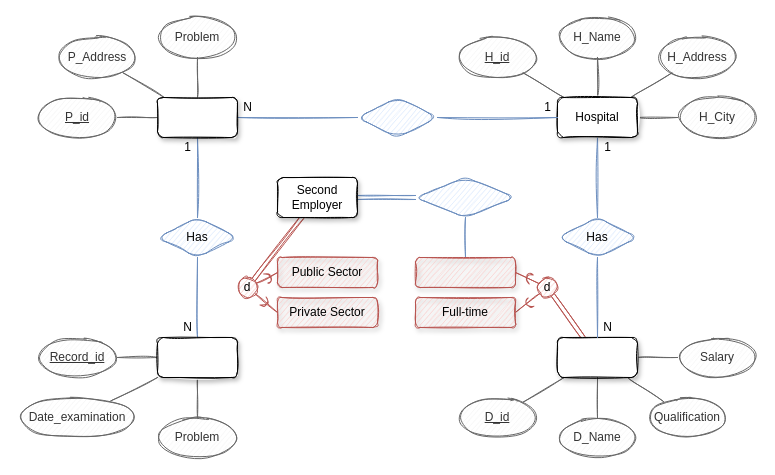
Some shapes in this 775 by 475 pixel diagram are drawn without their labels. Each missing label, with the centre of its shape:
"Admitted to" belongs at [397,117].
"Doctor" belongs at [598,358].
"Employed by" belongs at [465,197].
"Medical Record" belongs at [198,358].
"Part-time" belongs at [466,273].
"Patient" belongs at [198,118].
